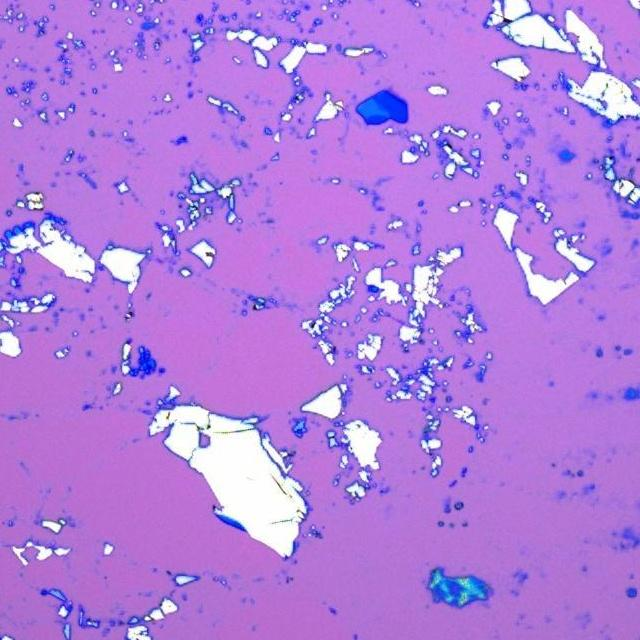monolayer-eWW4: (386, 85, 402, 95)
